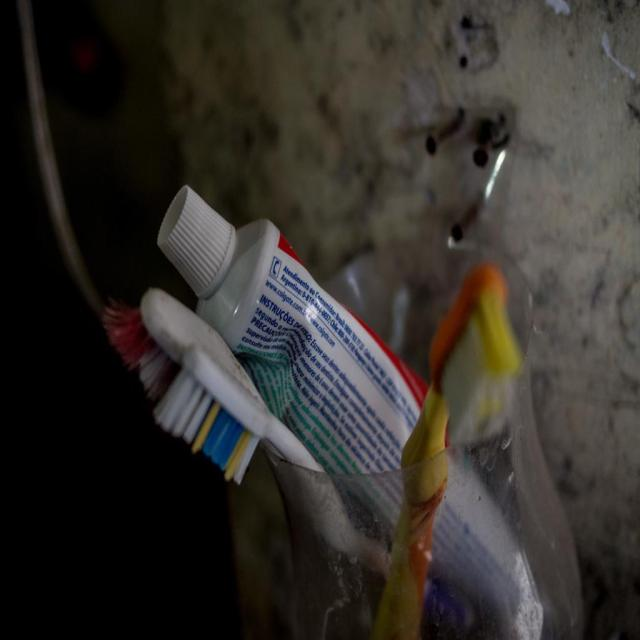Toothpaste: (157, 180, 548, 639)
